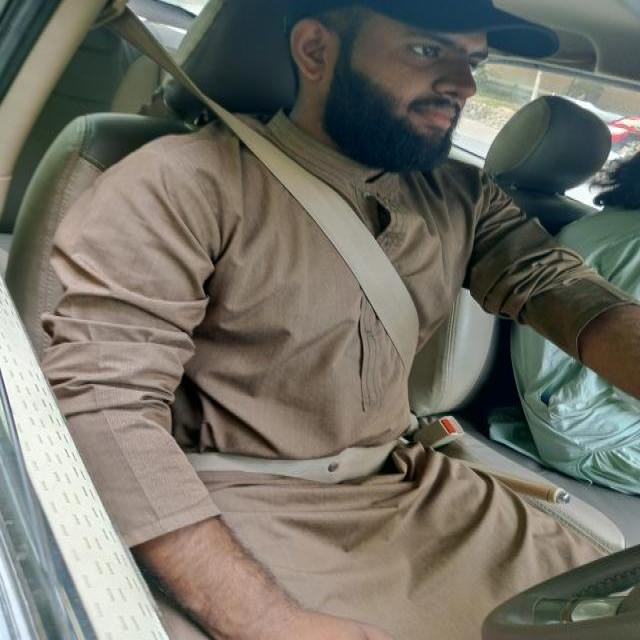seatbelt: (83, 0, 474, 507)
